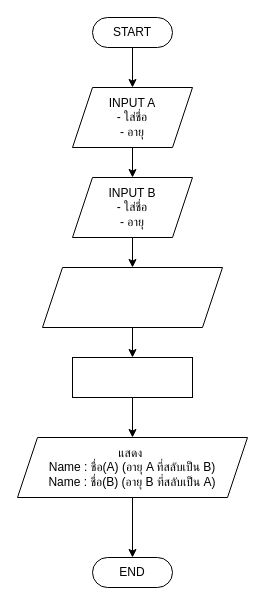
Some shapes in this 265 by 605 pixel diagram are drawn without their labels. The shapes that lost their labels are listed below. From the top down, each one's centre as x and y in pixels, then its label:
At point 132,297: "แสดง Name : ชื่อ(A) (อายุ A) Name : ชื่อ(B) (อายุ B)".
At point 132,377: "ทำการสลับอายุ A กับ B".
